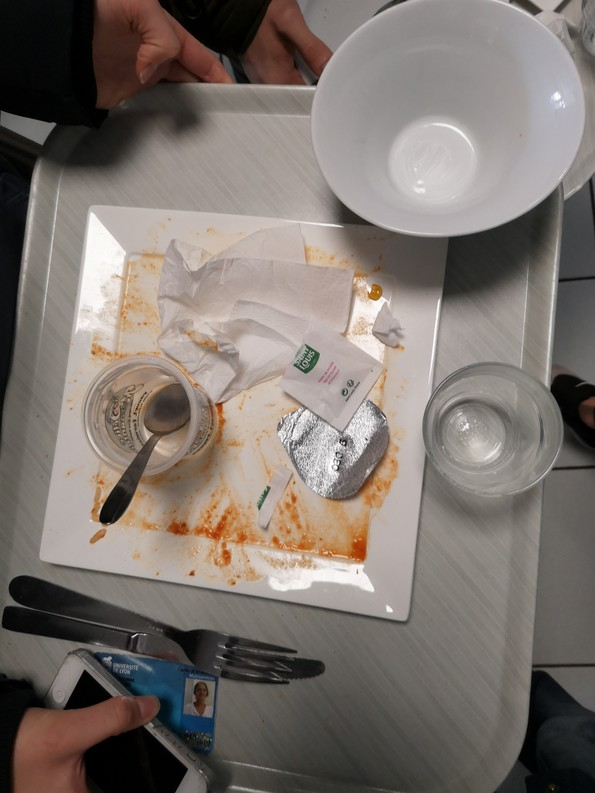cup: (423, 346, 587, 522)
cutlery: (2, 565, 317, 692), (99, 383, 186, 533)
trash: (162, 238, 403, 382), (82, 361, 213, 470), (279, 404, 390, 498), (290, 334, 386, 433)
